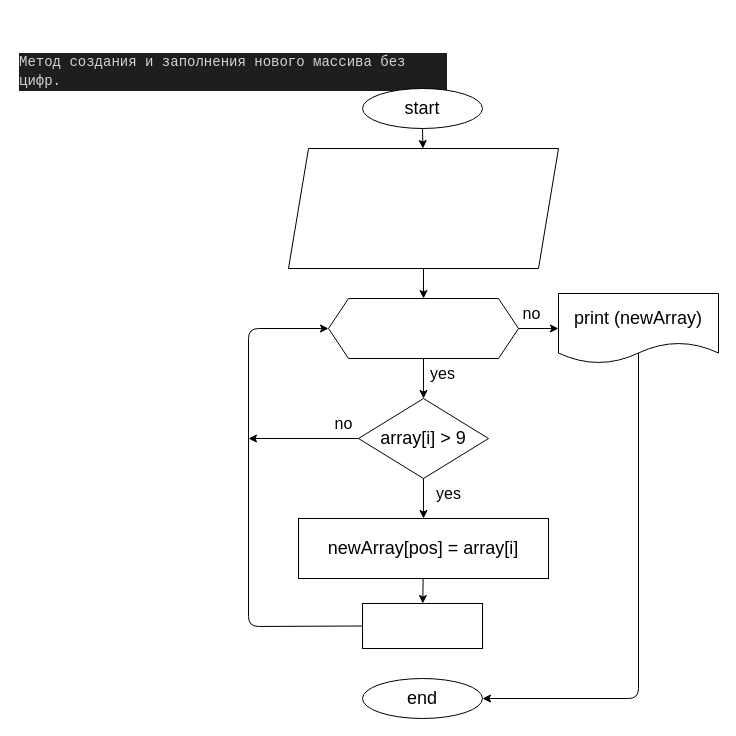
The diagram is 736 pixels wide and 736 high, and some of its shapes have lost their labels. Each missing label, with the centre of its shape:
"array; size = array.Length; newArray; сount = newArray.Length; pos = 0;" goes at (x=423, y=208).
"i = 0; i < size; i++" goes at (x=423, y=328).
"pos++" goes at (x=422, y=625).
